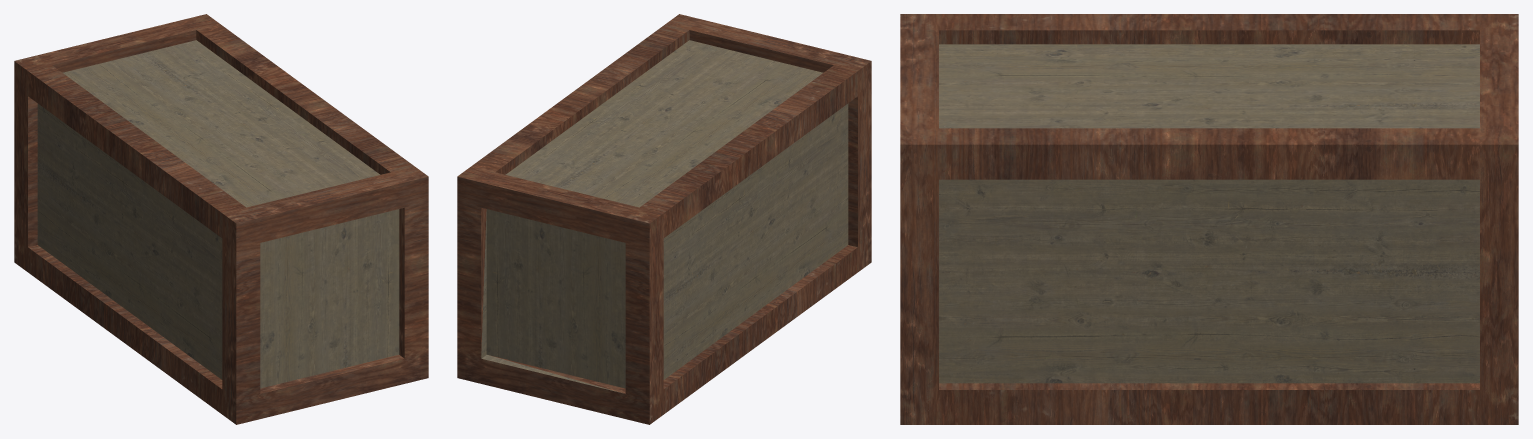
The model's file is crateLarge.glb.
3 views of the same model, side by side, from view 1: azimuth 30°, elevation 25°; view 2: azimuth 150°, elevation 25°; view 3: azimuth 270°, elevation 25° (orthographic). The views are drawn at different scales.
Parts seen in each view (by area): view 1: Crate_Rectangle_Cube.032; view 2: Crate_Rectangle_Cube.032; view 3: Crate_Rectangle_Cube.032.
Boxes of the visible parts, bbox=[...] form: Crate_Rectangle_Cube.032: bbox=[14, 14, 428, 424]; Crate_Rectangle_Cube.032: bbox=[457, 14, 871, 424]; Crate_Rectangle_Cube.032: bbox=[900, 14, 1518, 424].
Bounding box in the file's own units: 2 × 2 × 4.
Materials: 2 (2 with a texture image).
